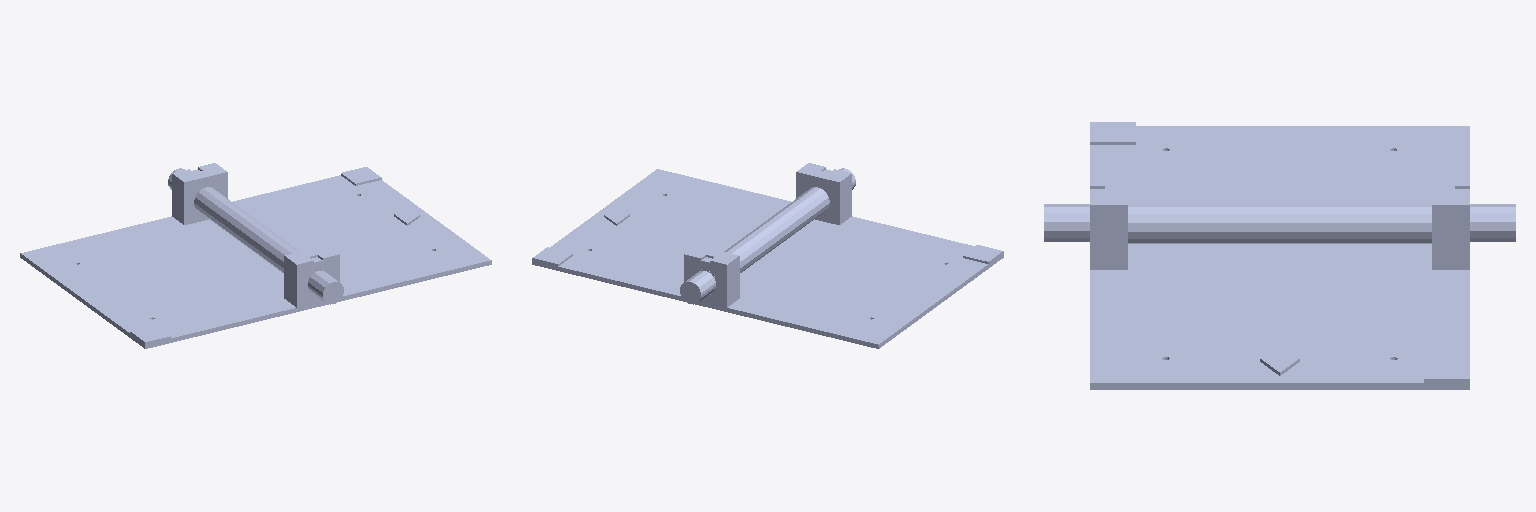
URDF robot description (air_robot):
<?xml version="1.0" encoding="utf-8" ?>
<!-- This URDF was automatically created by SolidWorks to URDF Exporter! Originally created by [author] ([email redacted])
     Commit Version: 1.6.0-4-g7f85cfe  Build Version: 1.6.7995.38578
     For more information, please see http://wiki.ros.org/sw_urdf_exporter -->
<robot name="air_robot">
    <link name="base_link">
        <inertial>
            <origin xyz="0.000160852559340272 0.416511988266863 0.00522519390962018" rpy="0 0 0" />
            <mass value="6.60658072927865" />
            <inertia ixx="0.205461268695088" ixy="-4.8631130134879E-08" ixz="3.31309244336347E-09" iyy="0.0632251395598791" iyz="-4.46121098307276E-09" izz="0.213924141252687" />
        </inertial>
        <visual>
            <origin xyz="0 0 0" rpy="0 0 0" />
            <geometry>
                <mesh filename="package://air_description/meshes/base_link.STL" />
            </geometry>
            <material name="">
                <color rgba="0.792156862745098 0.819607843137255 0.933333333333333 1" />
            </material>
        </visual>
        <collision>
            <origin xyz="0 0 0" rpy="0 0 0" />
            <geometry>
                <mesh filename="package://air_description/meshes/base_link.STL" />
            </geometry>
        </collision>
    </link>
    <link name="s1">
        <inertial>
            <origin xyz="-0.0565855661773653 -1.47432999124675E-05 0.0503451976338493" rpy="0 0 0" />
            <mass value="0.542684124579144" />
            <inertia ixx="0.000345761092952399" ixy="-3.24050500600486E-07" ixz="1.50683178516403E-07" iyy="0.000778022471193682" iyz="1.07326375799424E-08" izz="0.000776671252305068" />
        </inertial>
        <visual>
            <origin xyz="0 0 0" rpy="0 0 0" />
            <geometry>
                <mesh filename="package://air_description/meshes/s1.STL" />
            </geometry>
            <material name="">
                <color rgba="0.792156862745098 0.819607843137255 0.933333333333333 1" />
            </material>
        </visual>
        <collision>
            <origin xyz="0 0 0" rpy="0 0 0" />
            <geometry>
                <mesh filename="package://air_description/meshes/s1.STL" />
            </geometry>
        </collision>
    </link>
    <joint name="s1j" type="revolute">
        <origin xyz="0 -0.1455 1.1455" rpy="1.5708 0 0" />
        <parent link="base_link" />
        <child link="s1" />
        <axis xyz="0 0 1" />
        <limit lower="-0.78" upper="0.78" effort="0" velocity="0.35" />
    </joint>
    <link name="s2">
        <inertial>
            <origin xyz="0.0265368019978267 -0.0360762146328593 0.00202591662662588" rpy="0 0 0" />
            <mass value="0.0397003268136184" />
            <inertia ixx="1.77539568949169E-05" ixy="-5.49265597337707E-08" ixz="4.46961963342789E-21" iyy="9.62749691816005E-06" iyz="5.5659379414233E-21" izz="1.53865784423673E-05" />
        </inertial>
        <visual>
            <origin xyz="0 0 0" rpy="0 0 0" />
            <geometry>
                <mesh filename="package://air_description/meshes/s2.STL" />
            </geometry>
            <material name="">
                <color rgba="0.792156862745098 0.819607843137255 0.933333333333333 1" />
            </material>
        </visual>
        <collision>
            <origin xyz="0 0 0" rpy="0 0 0" />
            <geometry>
                <mesh filename="package://air_description/meshes/s2.STL" />
            </geometry>
        </collision>
    </link>
    <joint name="s2j" type="revolute">
        <origin xyz="0 0 0.05" rpy="0 0 0" />
        <parent link="s1" />
        <child link="s2" />
        <axis xyz="-1 0 0" />
        <limit lower="0" upper="1.57" effort="0" velocity="0.35" />
    </joint>
    <link name="s3">
        <inertial>
            <origin xyz="-0.0307852686146159 -0.106762715233885 -0.00285680761161178" rpy="0 0 0" />
            <mass value="0.69346525440976" />
            <inertia ixx="0.000632226154715784" ixy="3.3846916742775E-06" ixz="-2.03216958615076E-06" iyy="0.000203793561582271" iyz="-7.69131798756883E-08" izz="0.000626858789980171" />
        </inertial>
        <visual>
            <origin xyz="0 0 0" rpy="0 0 0" />
            <geometry>
                <mesh filename="package://air_description/meshes/s3.STL" />
            </geometry>
            <material name="">
                <color rgba="0.792156862745098 0.819607843137255 0.933333333333333 1" />
            </material>
        </visual>
        <collision>
            <origin xyz="0 0 0" rpy="0 0 0" />
            <geometry>
                <mesh filename="package://air_description/meshes/s3.STL" />
            </geometry>
        </collision>
    </link>
    <joint name="s3j" type="revolute">
        <origin xyz="-0.00345 -0.06 0.0036" rpy="0 0 0" />
        <parent link="s2" />
        <child link="s3" />
        <axis xyz="0 -1 0" />
        <limit lower="-1.57" upper="1.57" effort="0" velocity="0.35" />
    </joint>
    <link name="e">
        <inertial>
            <origin xyz="0.133914313079551 0.0397090138567681 -0.00135370354868536" rpy="0 0 0" />
            <mass value="0.524484949455585" />
            <inertia ixx="0.000164098535625993" ixy="-0.00011555456704967" ixz="-1.49937999308697E-06" iyy="0.000491486729879123" iyz="5.4210279008361E-06" izz="0.000537801635705856" />
        </inertial>
        <visual>
            <origin xyz="0 0 0" rpy="0 0 0" />
            <geometry>
                <mesh filename="package://air_description/meshes/e.STL" />
            </geometry>
            <material name="">
                <color rgba="0.792156862745098 0.819607843137255 0.933333333333333 1" />
            </material>
        </visual>
        <collision>
            <origin xyz="0 0 0" rpy="0 0 0" />
            <geometry>
                <mesh filename="package://air_description/meshes/e.STL" />
            </geometry>
        </collision>
    </link>
    <joint name="ej" type="revolute">
        <origin xyz="-0.005 -0.2835 0" rpy="0 0 -0.28935" />
        <parent link="s3" />
        <child link="e" />
        <axis xyz="0 0 1" />
        <limit lower="-1.4" upper="0.184" effort="0" velocity="0.13" />
    </joint>
    <link name="roll">
        <inertial>
            <origin xyz="2.11649564541005E-08 2.17253527112771E-08 -5.72361158468482E-10" rpy="0 0 0" />
            <mass value="0.0123350072540482" />
            <inertia ixx="5.73140316108075E-06" ixy="2.39610064059149E-12" ixz="2.37221429275288E-12" iyy="3.0133459248538E-06" iyz="-2.51281711383088E-12" izz="3.01335111374677E-06" />
        </inertial>
        <visual>
            <origin xyz="0 0 0" rpy="0 0 0" />
            <geometry>
                <mesh filename="package://air_description/meshes/roll.STL" />
            </geometry>
            <material name="">
                <color rgba="0.792156862745098 0.819607843137255 0.933333333333333 1" />
            </material>
        </visual>
        <collision>
            <origin xyz="0 0 0" rpy="0 0 0" />
            <geometry>
                <mesh filename="package://air_description/meshes/roll.STL" />
            </geometry>
        </collision>
    </link>
    <joint name="rollj" type="revolute">
        <origin xyz="0.25159 0.0749 0" rpy="-1.5708 0 -2.8522" />
        <parent link="e" />
        <child link="roll" />
        <axis xyz="0 0.70711 0.70711" />
        <limit lower="-0.26" upper="0.26" effort="0" velocity="0.09" />
    </joint>
    <link name="pitch">
        <inertial>
            <origin xyz="0.0286089165171641 -0.000144661566694015 0.009855465038871" rpy="0 0 0" />
            <mass value="0.0576090249075869" />
            <inertia ixx="7.09168260696957E-05" ixy="-9.04854271559607E-09" ixz="-9.02484498992207E-09" iyy="3.68466285330398E-05" iyz="-3.7654782496613E-07" izz="3.68466243102646E-05" />
        </inertial>
        <visual>
            <origin xyz="0 0 0" rpy="0 0 0" />
            <geometry>
                <mesh filename="package://air_description/meshes/pitch.STL" />
            </geometry>
            <material name="">
                <color rgba="0.792156862745098 0.819607843137255 0.933333333333333 1" />
            </material>
        </visual>
        <collision>
            <origin xyz="0 0 0" rpy="0 0 0" />
            <geometry>
                <mesh filename="package://air_description/meshes/pitch.STL" />
            </geometry>
        </collision>
    </link>
    <joint name="pitchj" type="revolute">
        <origin xyz="0 0.01 0" rpy="-1.5708 0 3.1416" />
        <parent link="roll" />
        <child link="pitch" />
        <axis xyz="0 0.70711 -0.70711" />
        <limit lower="-0.26" upper="0.26" effort="0" velocity="0.09" />
    </joint>
    <link name="yaw">
        <inertial>
            <origin xyz="0.121145515511824 -0.00274393412138674 -0.00280619674961233" rpy="0 0 0" />
            <mass value="0.288045639627102" />
            <inertia ixx="0.000166764800385917" ixy="1.15318815602555E-05" ixz="-2.72502292894343E-07" iyy="0.000292613552431781" iyz="3.6036191451638E-08" izz="0.000214965635544534" />
        </inertial>
        <visual>
            <origin xyz="0 0 0" rpy="0 0 0" />
            <geometry>
                <mesh filename="package://air_description/meshes/yaw.STL" />
            </geometry>
            <material name="">
                <color rgba="0.792156862745098 0.819607843137255 0.933333333333333 1" />
            </material>
        </visual>
        <collision>
            <origin xyz="0 0 0" rpy="0 0 0" />
            <geometry>
                <mesh filename="package://air_description/meshes/yaw.STL" />
            </geometry>
        </collision>
    </link>
    <joint name="yawj" type="revolute">
        <origin xyz="0.01 0 0.01" rpy="0 0 0" />
        <parent link="pitch" />
        <child link="yaw" />
        <axis xyz="-1 0 0" />
        <limit lower="-3.0" upper="3.0" effort="0" velocity="1.75" />
    </joint>
    <gazebo reference="base_link">
        <turnGravityOff>true</turnGravityOff>
        <plugin name="gazebo_ros_control">
            <robotNamespace>/</robotNamespace>
        </plugin>
    </gazebo>
    <gazebo reference="s1">
        <turnGravityOff>true</turnGravityOff>
    </gazebo>
    <gazebo reference="s2">
        <turnGravityOff>true</turnGravityOff>
    </gazebo>
    <gazebo reference="s3">
        <turnGravityOff>true</turnGravityOff>
    </gazebo>
    <gazebo reference="e">
        <turnGravityOff>true</turnGravityOff>
    </gazebo>
    <gazebo reference="roll">
        <turnGravityOff>true</turnGravityOff>
    </gazebo>
    <gazebo reference="pitch">
        <turnGravityOff>true</turnGravityOff>
    </gazebo>
    <gazebo reference="yaw">
        <turnGravityOff>true</turnGravityOff>
    </gazebo>
    <transmission name="trans_s1j">
        <type>transmission_interface/SimpleTransmission</type>
        <joint name="s1j">
            <hardwareInterface>hardware_interface/PosVelAccJointInterface</hardwareInterface>
        </joint>
        <actuator name="s1j_motor">
            <hardwareInterface>hardware_interface/PosVelAccJointInterface</hardwareInterface>
            <mechanicalReduction>1</mechanicalReduction>
        </actuator>
    </transmission>
    <transmission name="trans_s2j">
        <type>transmission_interface/SimpleTransmission</type>
        <joint name="s2j">
            <hardwareInterface>hardware_interface/PosVelAccJointInterface</hardwareInterface>
        </joint>
        <actuator name="s2j_motor">
            <hardwareInterface>hardware_interface/PosVelAccJointInterface</hardwareInterface>
            <mechanicalReduction>1</mechanicalReduction>
        </actuator>
    </transmission>
    <transmission name="trans_s3j">
        <type>transmission_interface/SimpleTransmission</type>
        <joint name="s3j">
            <hardwareInterface>hardware_interface/PosVelAccJointInterface</hardwareInterface>
        </joint>
        <actuator name="s3j_motor">
            <hardwareInterface>hardware_interface/PosVelAccJointInterface</hardwareInterface>
            <mechanicalReduction>1</mechanicalReduction>
        </actuator>
    </transmission>
    <transmission name="trans_ej">
        <type>transmission_interface/SimpleTransmission</type>
        <joint name="ej">
            <hardwareInterface>hardware_interface/PosVelAccJointInterface</hardwareInterface>
        </joint>
        <actuator name="ej_motor">
            <hardwareInterface>hardware_interface/PosVelAccJointInterface</hardwareInterface>
            <mechanicalReduction>1</mechanicalReduction>
        </actuator>
    </transmission>
    <transmission name="trans_rollj">
        <type>transmission_interface/SimpleTransmission</type>
        <joint name="rollj">
            <hardwareInterface>hardware_interface/PosVelAccJointInterface</hardwareInterface>
        </joint>
        <actuator name="rollj_motor">
            <hardwareInterface>hardware_interface/PosVelAccJointInterface</hardwareInterface>
            <mechanicalReduction>1</mechanicalReduction>
        </actuator>
    </transmission>
    <transmission name="trans_pitchj">
        <type>transmission_interface/SimpleTransmission</type>
        <joint name="pitchj">
            <hardwareInterface>hardware_interface/PosVelAccJointInterface</hardwareInterface>
        </joint>
        <actuator name="pitchj_motor">
            <hardwareInterface>hardware_interface/PosVelAccJointInterface</hardwareInterface>
            <mechanicalReduction>1</mechanicalReduction>
        </actuator>
    </transmission>
    <transmission name="trans_yawj">
        <type>transmission_interface/SimpleTransmission</type>
        <joint name="yawj">
            <hardwareInterface>hardware_interface/PosVelAccJointInterface</hardwareInterface>
        </joint>
        <actuator name="yawj_motor">
            <hardwareInterface>hardware_interface/PosVelAccJointInterface</hardwareInterface>
            <mechanicalReduction>1</mechanicalReduction>
        </actuator>
    </transmission>
    <!--<gazebo>
        <plugin name="gazebo_ros_control" filename="libgazebo_ros_control.so">
            <robotNamespace>/</robotNamespace>
        </plugin>
    </gazebo>-->
</robot>

--- Facts derived from the render (not from the file) ---
Views: 3 orthographic renders of the robot side by side, from view 1: azimuth 30°, elevation 25°; view 2: azimuth 150°, elevation 25°; view 3: azimuth 270°, elevation 25°.
Model air_robot with 8 links and 7 joints (7 revolute), rooted at base_link, posed every joint at zero.
Visible links, largest first — view 1: base_link; view 2: base_link; view 3: base_link.
Link boxes in pixels (left/top/right/bottom): base_link: left=20, top=163, right=491, bottom=348; base_link: left=532, top=163, right=1003, bottom=348; base_link: left=1044, top=122, right=1515, bottom=389.
Bounding box of the posed robot: 0.8 × 0.62 × 0.105 m (x, y, z).
Meshes: 8 distinct files referenced, 1 mesh visuals loaded (1 binary STL); not drawn: 7 (reference not matched to a file when rendering).